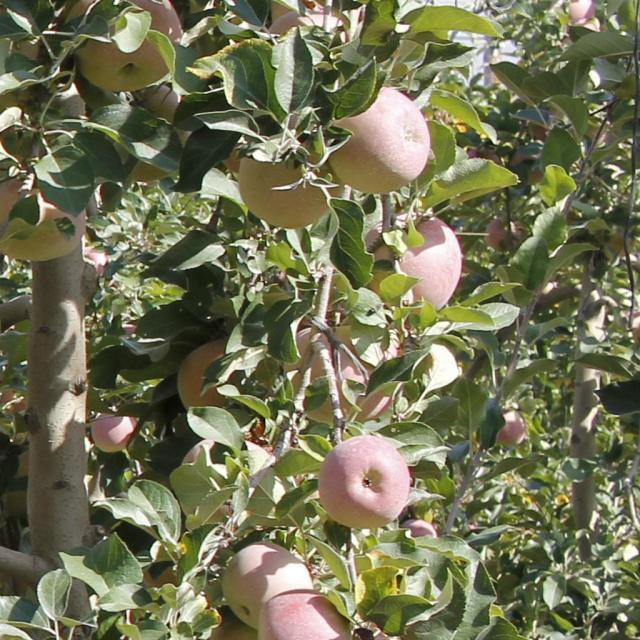apple: (330, 88, 430, 192), (177, 326, 278, 426), (77, 0, 181, 92), (366, 218, 462, 309), (319, 435, 410, 526), (222, 542, 312, 629), (239, 158, 328, 228), (260, 595, 346, 639), (90, 415, 137, 452), (496, 410, 526, 444)
